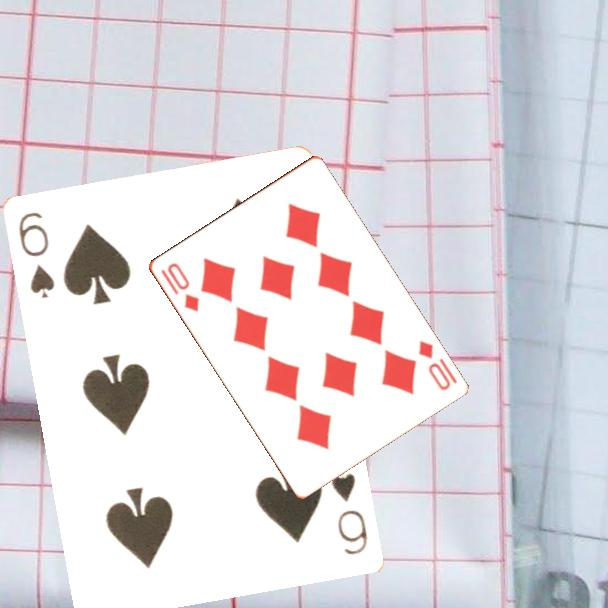d10: (414, 337, 460, 393), (157, 259, 202, 315)
s06: (15, 208, 58, 302), (328, 465, 371, 558)
